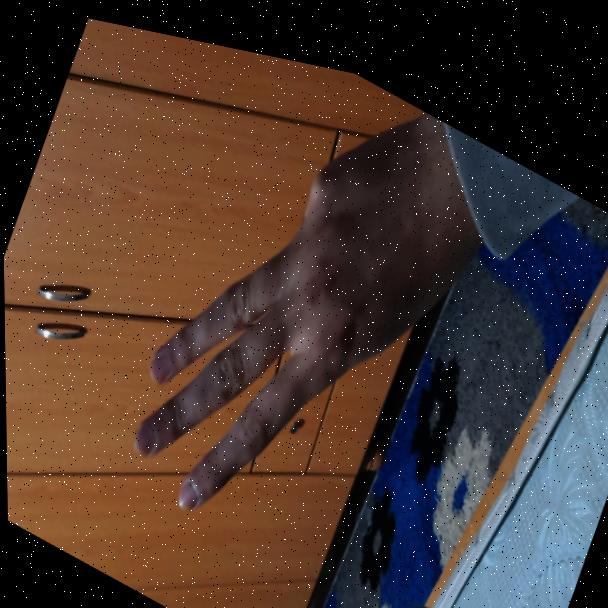five: (92, 16, 472, 608)
